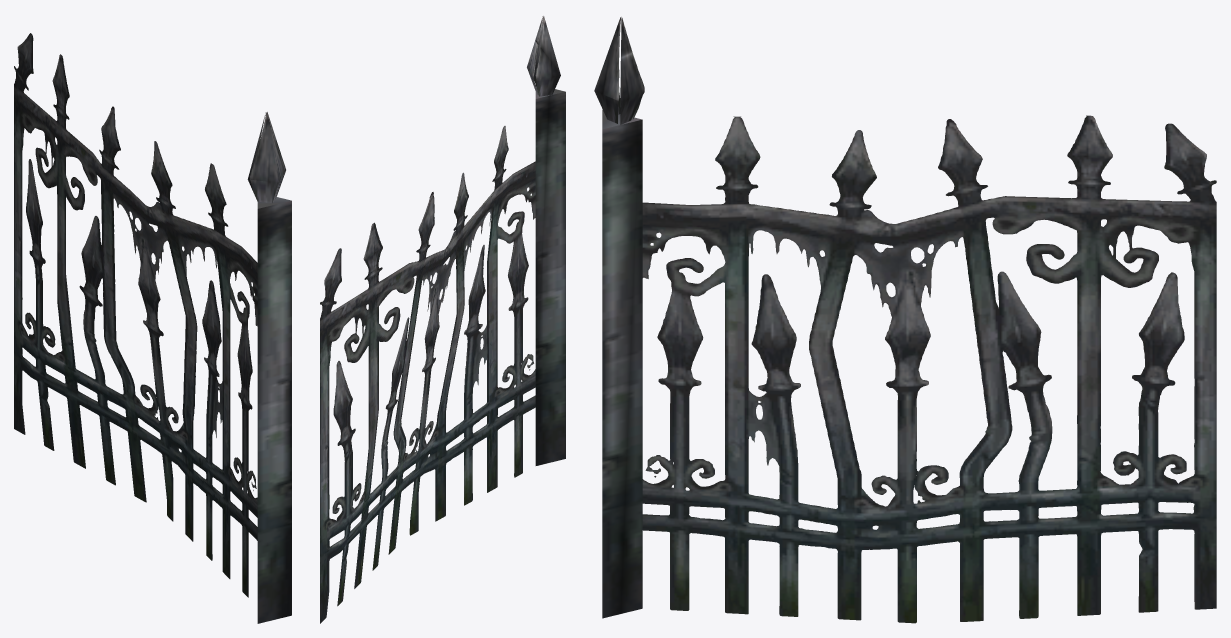
Rendered from duskwoodfencesegment.obj.
3 views of the same model, side by side, from view 1: azimuth 30°, elevation 25°; view 2: azimuth 150°, elevation 25°; view 3: azimuth 270°, elevation 25° (orthographic). The views are drawn at different scales.
Visible parts, largest first — view 1: DUSKWOODFENCESEGMENT0; view 2: DUSKWOODFENCESEGMENT0; view 3: DUSKWOODFENCESEGMENT0.
Boxes of the visible parts, box(x1,y1,x2,y2) form: DUSKWOODFENCESEGMENT0: box(14, 33, 291, 623); DUSKWOODFENCESEGMENT0: box(320, 16, 565, 623); DUSKWOODFENCESEGMENT0: box(594, 17, 1216, 623).
Size of the model in its own units: 0.4446 by 4.66 by 4.42.
Materials: 1 (1 with a texture image).
